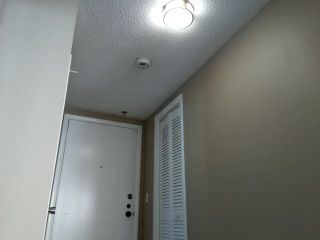roi: (64, 122, 143, 240)
